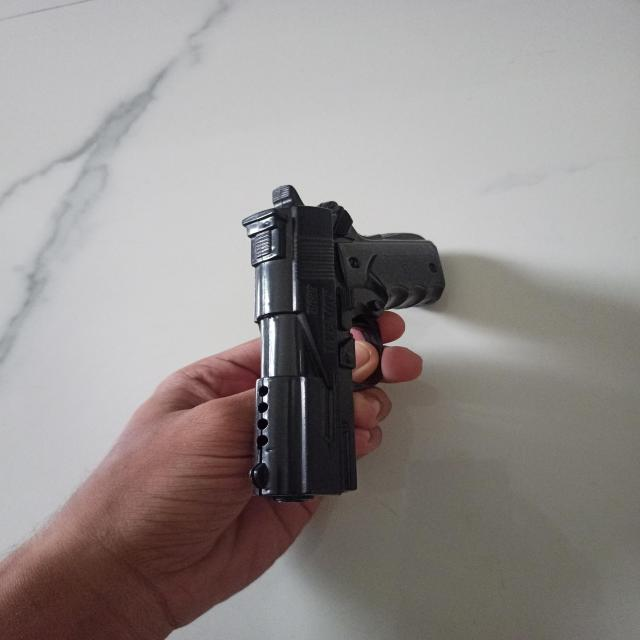handgun: (246, 181, 444, 502)
